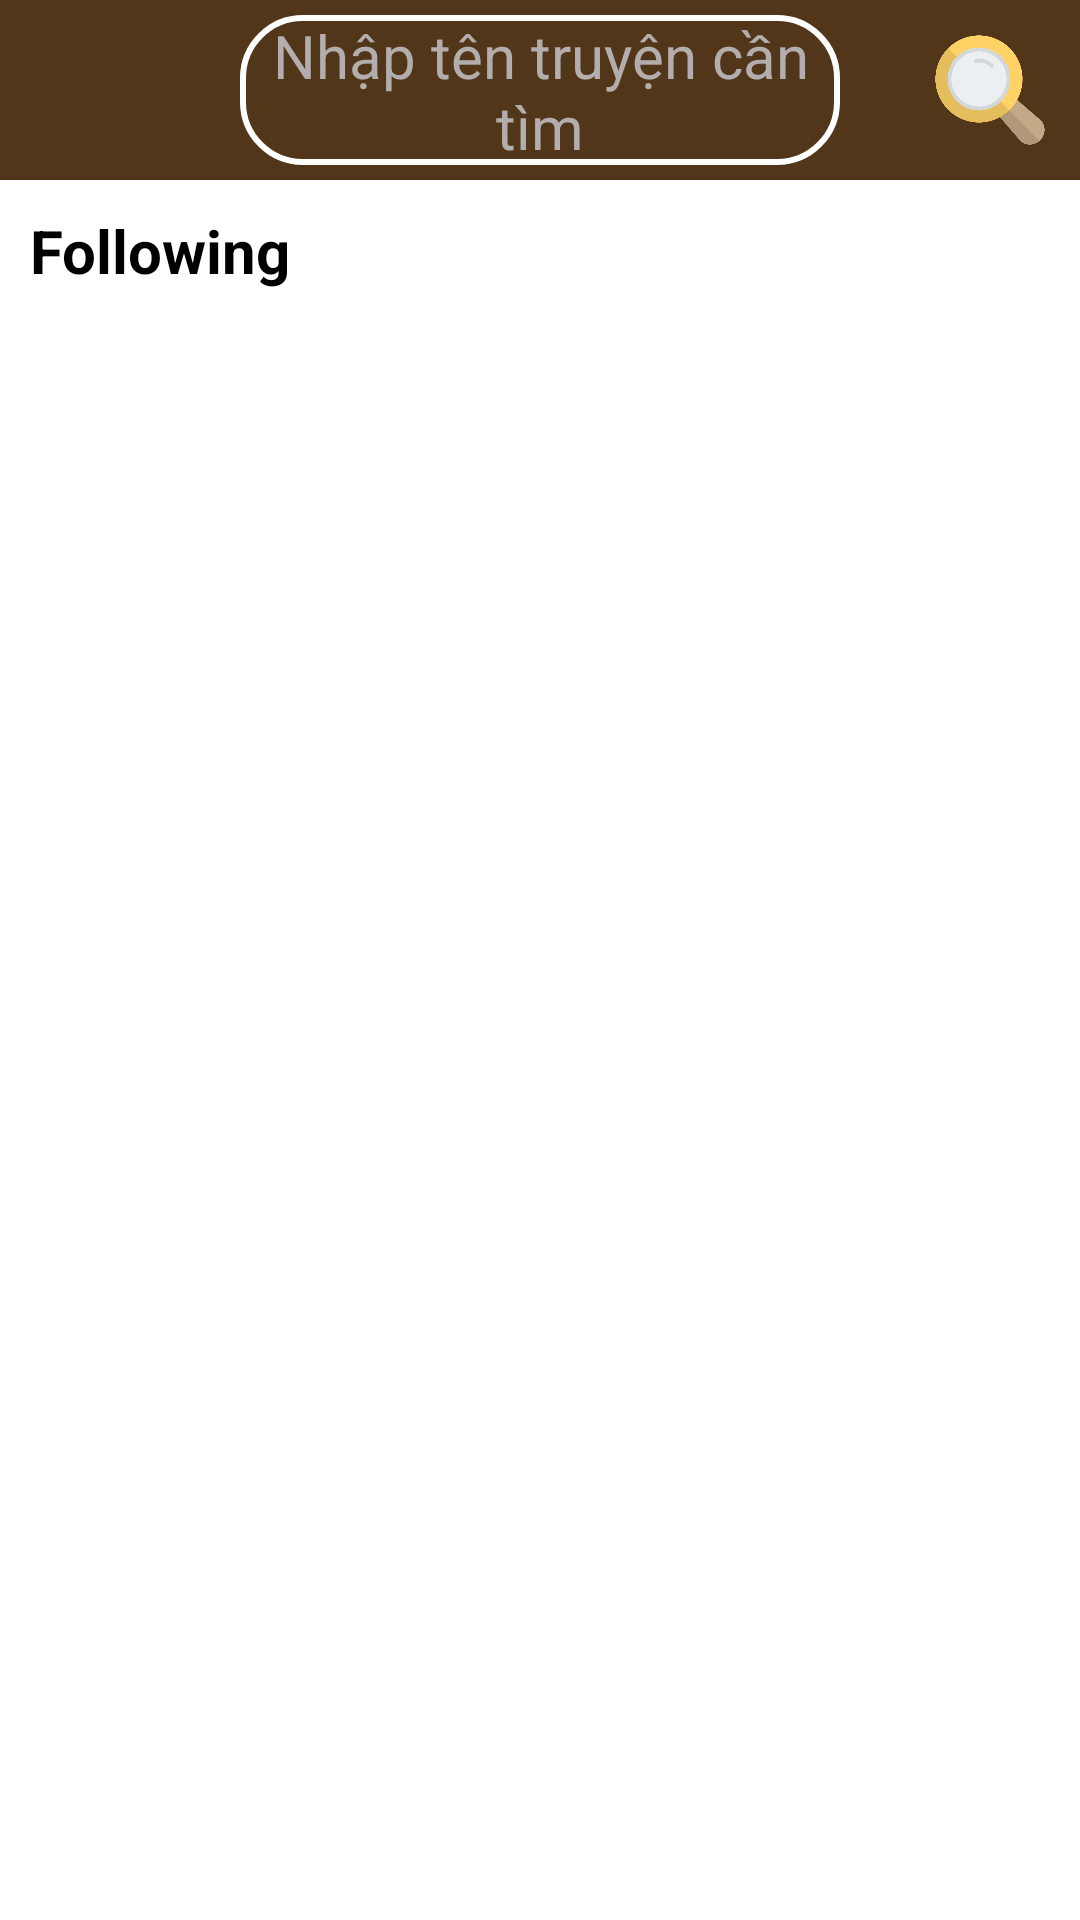

Locate icon controls on the screen. Image size 1080×1920, boxes as bbox=[x1, y1, x2, y2].
search: bbox=[935, 35, 1045, 145]
